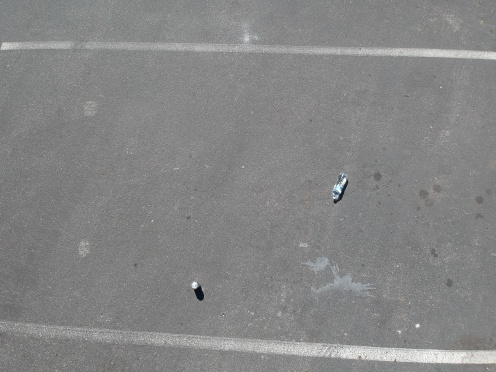bottle: (327, 169, 348, 205)
can: (186, 277, 204, 292)
